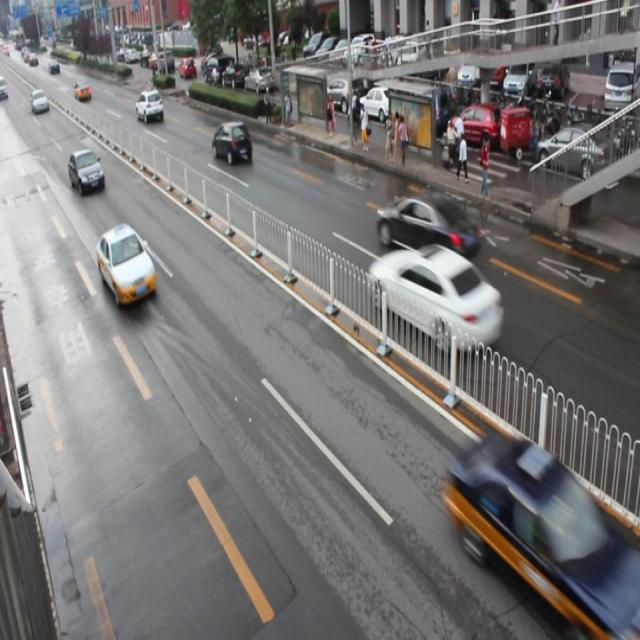car: (447, 440, 625, 624), (366, 242, 502, 353), (377, 192, 478, 263), (96, 224, 156, 308), (211, 121, 253, 166), (69, 147, 105, 194), (136, 88, 163, 124)
